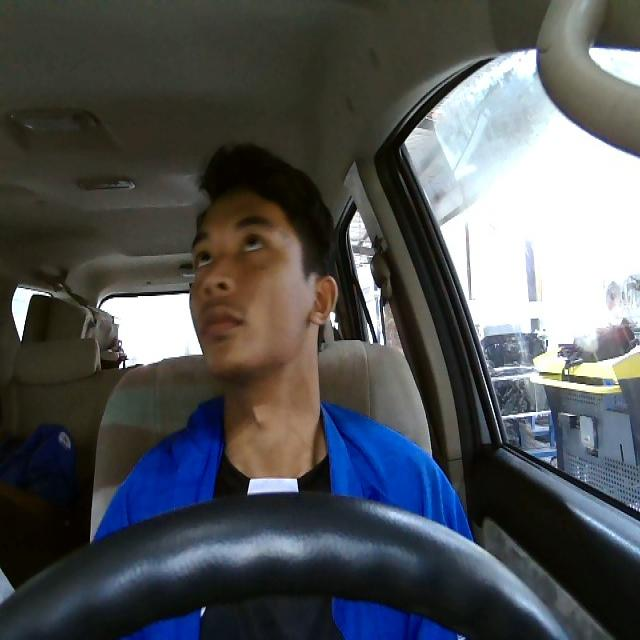seeing_left: (188, 187, 339, 376)
